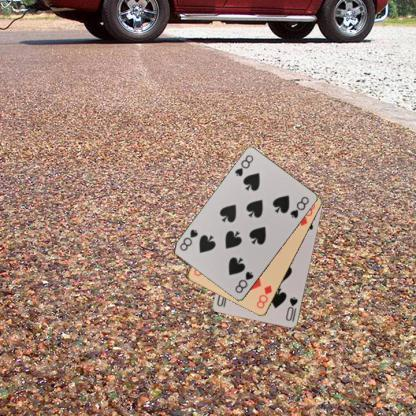10s: (283, 294, 299, 323)
8d: (254, 282, 274, 310)
8s: (232, 269, 255, 295), (232, 152, 255, 178)
